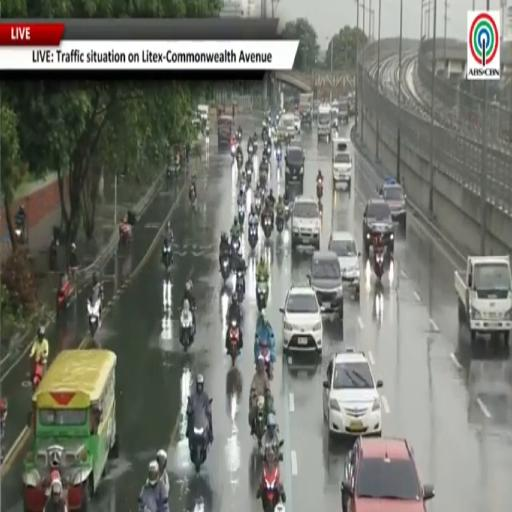car: (341, 437, 434, 511), (323, 348, 382, 436), (280, 286, 323, 355), (309, 251, 343, 321), (328, 232, 360, 300), (363, 198, 394, 258), (291, 196, 321, 250), (379, 181, 406, 231), (285, 143, 305, 189), (333, 151, 352, 188), (286, 139, 305, 155), (338, 101, 349, 123), (295, 116, 300, 134)
jeepney: (23, 349, 118, 511)
motorcycle: (258, 461, 285, 511), (189, 407, 209, 473), (57, 279, 76, 314), (254, 396, 266, 449), (119, 212, 136, 246), (87, 297, 101, 338), (180, 311, 193, 351), (259, 342, 272, 379), (32, 359, 46, 392), (0, 398, 7, 463), (229, 324, 239, 366), (256, 281, 268, 311), (373, 248, 384, 279), (119, 222, 133, 245), (49, 236, 58, 271), (162, 244, 173, 272), (236, 270, 245, 302), (15, 222, 26, 245), (221, 255, 230, 281), (262, 215, 272, 238), (248, 224, 257, 249), (258, 168, 267, 191), (275, 214, 284, 234), (228, 311, 239, 327), (189, 185, 196, 205), (231, 238, 240, 253), (255, 192, 261, 214), (239, 204, 245, 226), (317, 179, 323, 200), (236, 152, 243, 169), (246, 167, 252, 186), (284, 202, 290, 220), (274, 502, 285, 511), (276, 148, 281, 166), (262, 127, 268, 142), (231, 144, 236, 161), (266, 144, 272, 158), (236, 131, 242, 143), (248, 144, 253, 157), (254, 140, 258, 154)
truck: (455, 255, 511, 345), (333, 138, 351, 189), (317, 104, 331, 141), (299, 93, 313, 126)
